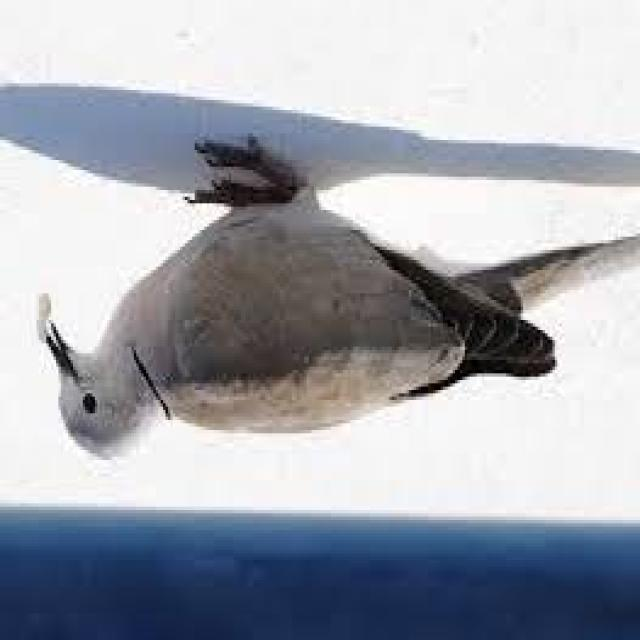pigeon: (31, 106, 573, 526)
